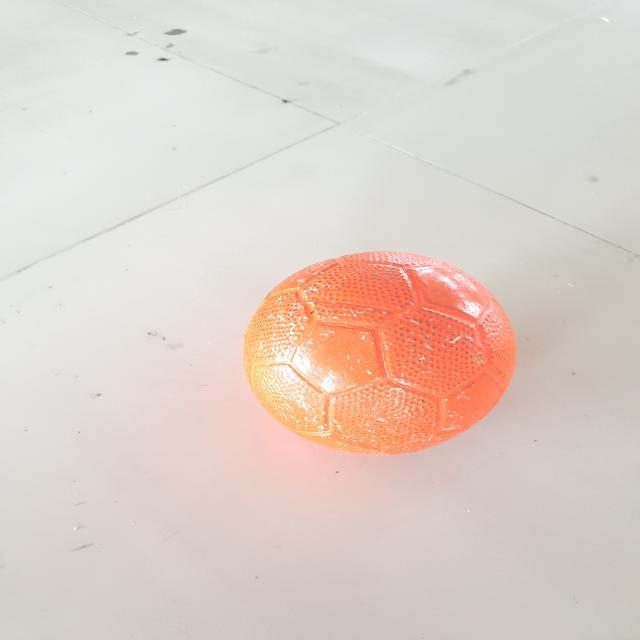bola: (234, 246, 530, 476)
